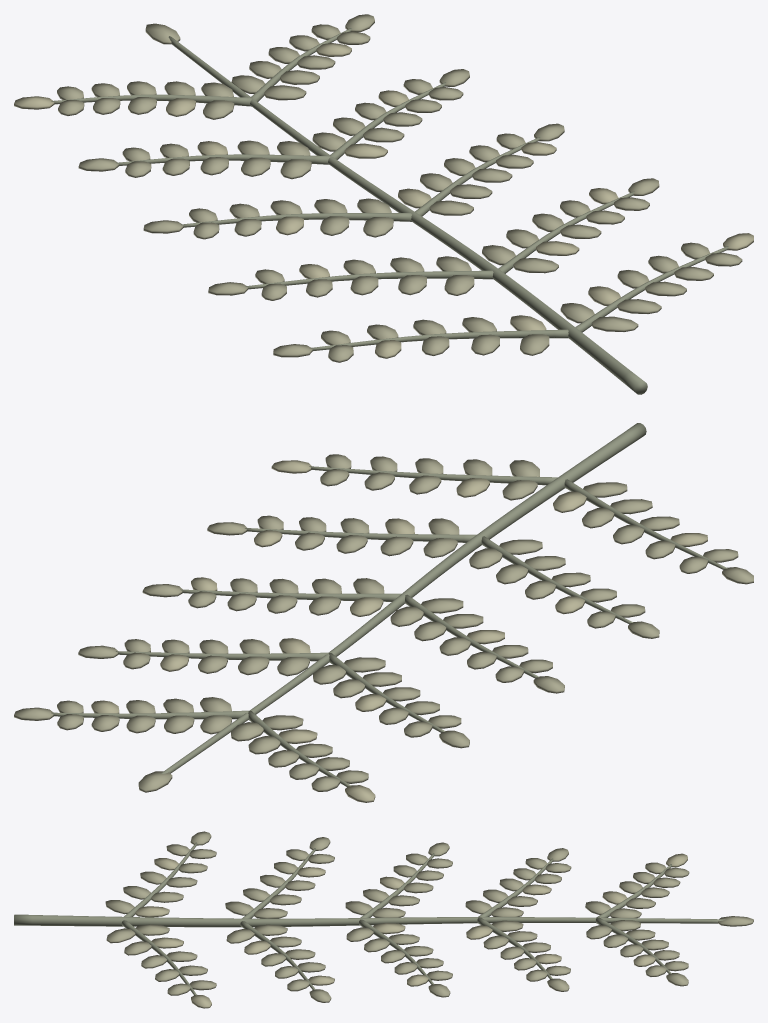
Rendered from pachypteris.glb.
3 views of the same model, one above another, from view 1: azimuth 30°, elevation 25°; view 2: azimuth 150°, elevation 25°; view 3: azimuth 270°, elevation 25° (orthographic). The views are drawn at different scales.
Parts seen in each view (by area): view 1: shallow thick entire-margined blunt pinnules, original branched rachis of one preserved foliage organ; view 2: shallow thick entire-margined blunt pinnules, original branched rachis of one preserved foliage organ; view 3: shallow thick entire-margined blunt pinnules, original branched rachis of one preserved foliage organ.
Boxes of the visible parts, x1=… form: shallow thick entire-margined blunt pinnules: x1=14, y1=14, x2=753, y2=362; original branched rachis of one preserved foliage organ: x1=51, y1=28, x2=728, y2=394; shallow thick entire-margined blunt pinnules: x1=14, y1=454, x2=753, y2=802; original branched rachis of one preserved foliage organ: x1=51, y1=423, x2=727, y2=786; shallow thick entire-margined blunt pinnules: x1=105, y1=831, x2=753, y2=1008; original branched rachis of one preserved foliage organ: x1=14, y1=842, x2=725, y2=995.
Size of the model in its own units: 0.1222 by 0.0033 by 0.2181.
